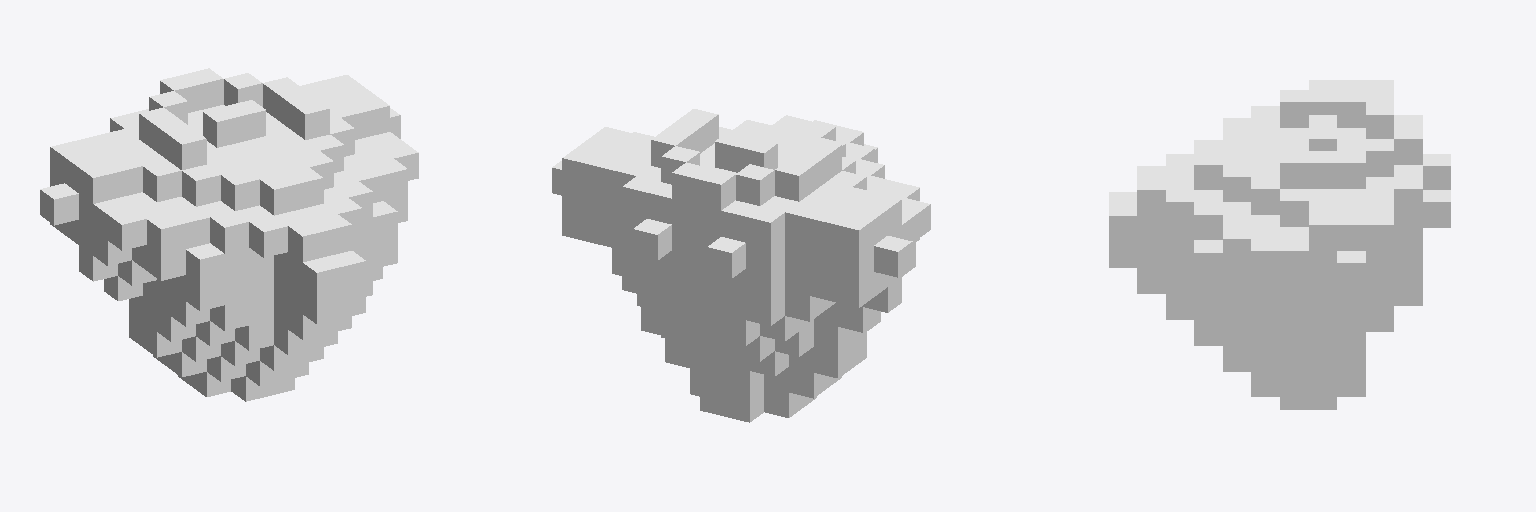
File: Robot_Body.obj
3 views of the same model, side by side, from view 1: azimuth 30°, elevation 25°; view 2: azimuth 150°, elevation 25°; view 3: azimuth 270°, elevation 25° (orthographic).
Bounding box in the file's own units: 14 × 10 × 12.